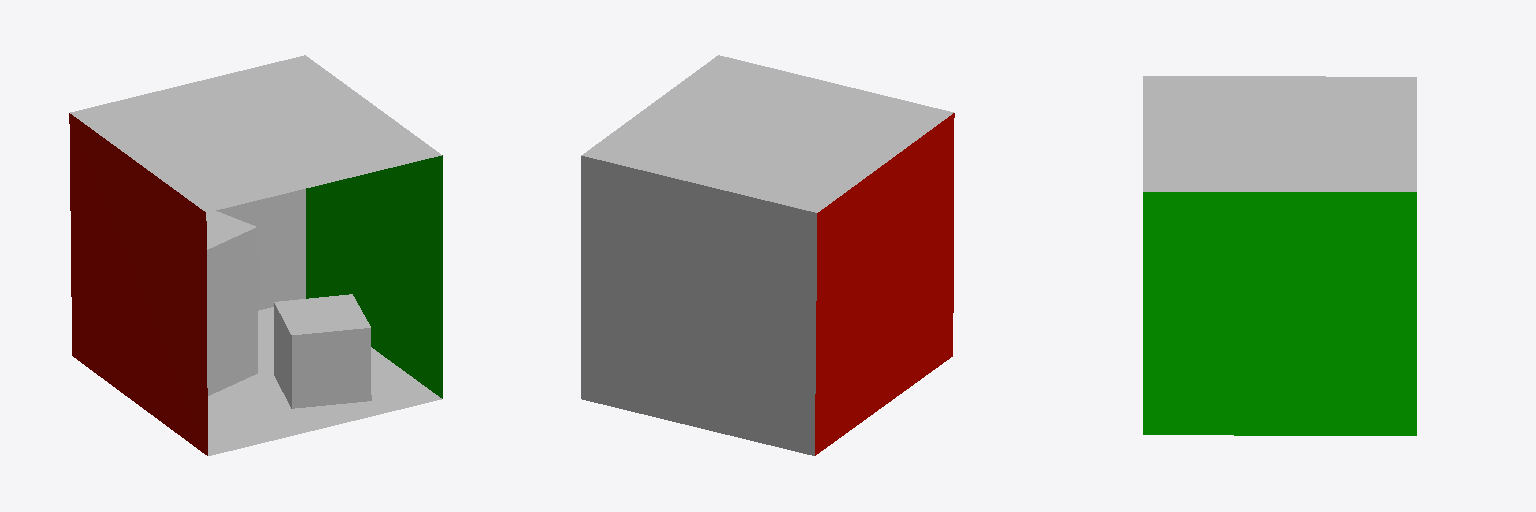
Rendered from cornell.obj.
3 renders of one model, left to right at view 1: azimuth 30°, elevation 25°; view 2: azimuth 150°, elevation 25°; view 3: azimuth 270°, elevation 25°, orthographic.
Parts seen in each view (by area): view 1: left_wall, ceiling, right_wall, floor, short_box, tall_box, back_wall; view 2: back_wall, left_wall, ceiling; view 3: right_wall, ceiling.
Boxes of the visible parts, <box> form: left_wall: <box>69,113,207,455</box>; ceiling: <box>70,55,441,212</box>; right_wall: <box>306,155,442,398</box>; floor: <box>208,307,441,455</box>; short_box: <box>274,294,371,408</box>; tall_box: <box>206,211,257,395</box>; back_wall: <box>216,189,305,310</box>; back_wall: <box>581,156,816,455</box>; left_wall: <box>815,113,954,455</box>; ceiling: <box>581,55,953,212</box>; right_wall: <box>1143,192,1416,435</box>; ceiling: <box>1143,76,1416,191</box>.
Size of the model in its own units: 5.56 by 5.49 by 5.6.